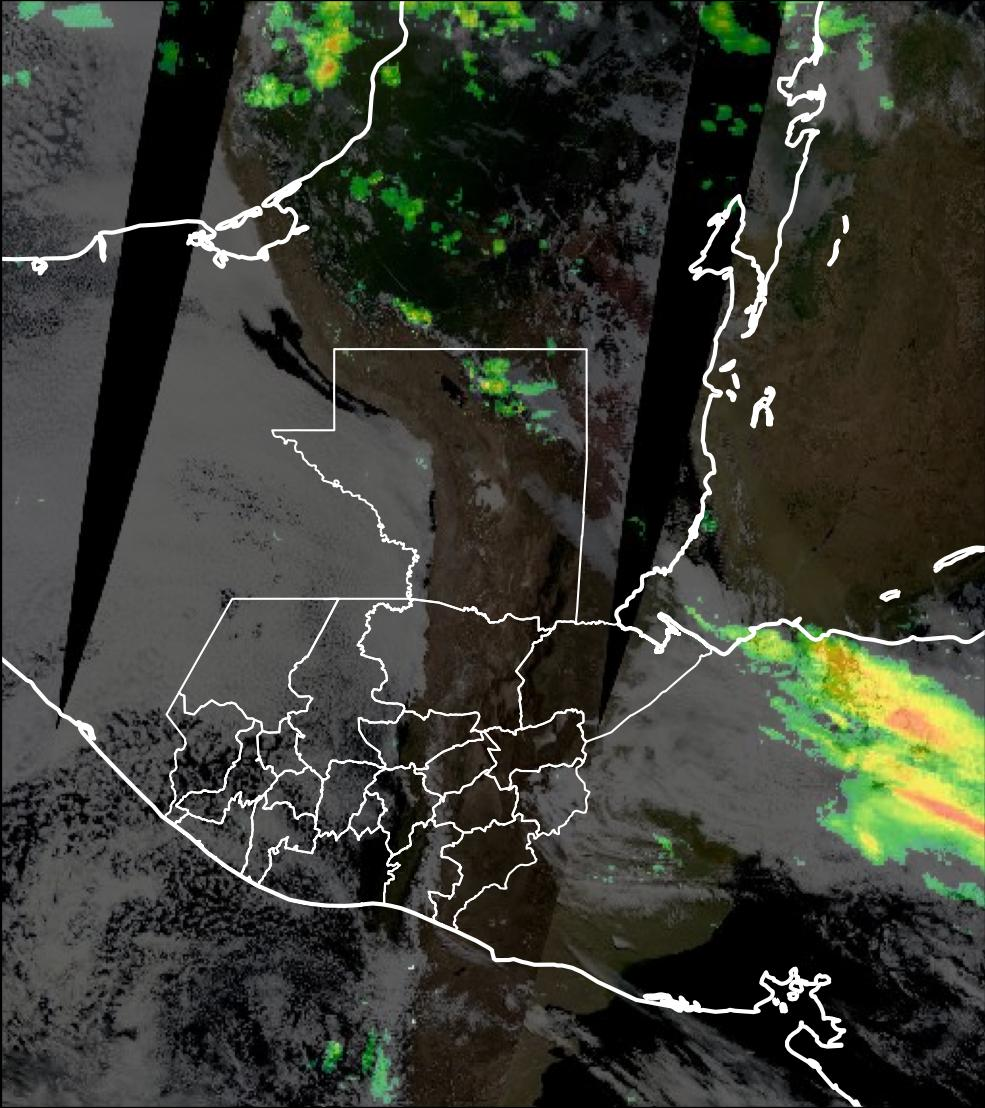precipitacion: (833, 644, 985, 873)
